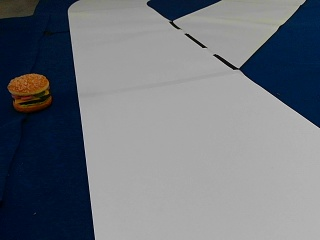burger: (7, 73, 52, 111)
